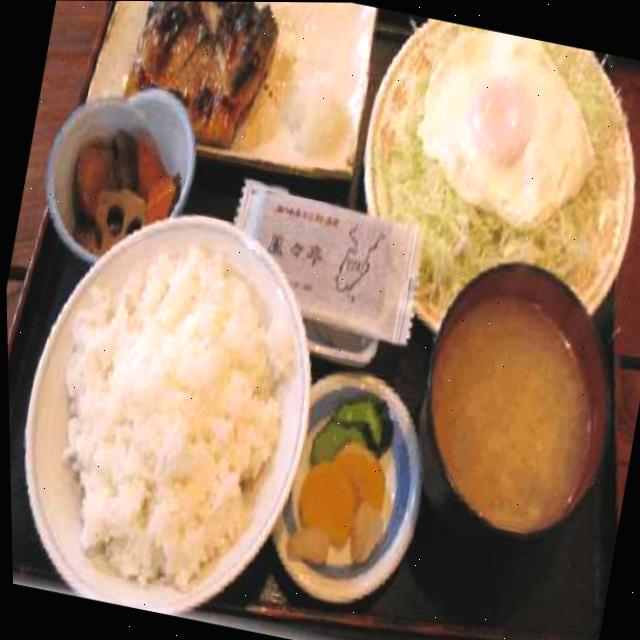米饭主食: (3, 174, 346, 636)
